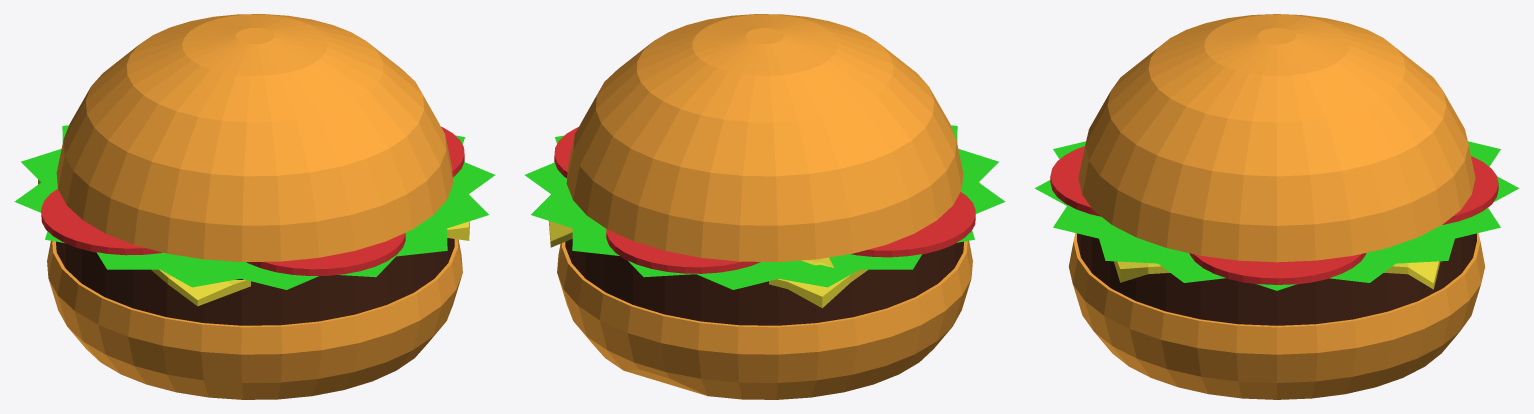
File: Cheeseburger.fbx
3 renders of one model, left to right at view 1: azimuth 30°, elevation 25°; view 2: azimuth 150°, elevation 25°; view 3: azimuth 270°, elevation 25°, orthographic.
Parts seen in each view (by area): view 1: Cylinder, Cylinder.001, Cylinder.002, Circle, Cylinder.004, Cylinder.005, Cube, Cylinder.006; view 2: Cylinder, Cylinder.001, Cylinder.002, Circle, Cylinder.004, Cylinder.003, Cube, Cylinder.006; view 3: Cylinder, Cylinder.001, Cylinder.002, Circle, Cylinder.006, Cylinder.005, Cube, Cylinder.003.
Boxes of the visible parts, x1,y1,x2,y2 form: Cylinder: [56, 14, 453, 261]; Cylinder.001: [47, 239, 462, 399]; Cylinder.002: [56, 238, 454, 325]; Circle: [14, 125, 494, 289]; Cylinder.004: [41, 189, 162, 255]; Cylinder.005: [246, 233, 405, 275]; Cube: [38, 179, 469, 306]; Cylinder.006: [441, 126, 464, 176]; Cylinder: [566, 14, 963, 261]; Cylinder.001: [557, 241, 972, 399]; Cylinder.002: [565, 239, 963, 325]; Circle: [525, 125, 1005, 289]; Cylinder.004: [851, 192, 975, 257]; Cylinder.003: [606, 229, 760, 273]; Cube: [548, 182, 980, 308]; Cylinder.006: [554, 127, 578, 178]; Cylinder: [1078, 14, 1475, 262]; Cylinder.001: [1068, 233, 1485, 399]; Cylinder.002: [1077, 233, 1476, 325]; Circle: [1035, 141, 1518, 290]; Cylinder.006: [1189, 253, 1366, 284]; Cylinder.005: [1050, 146, 1100, 216]; Cube: [1114, 261, 1440, 289]; Cylinder.003: [1442, 156, 1498, 224].
Bounding box in the file's own units: 243 × 159 × 243.
